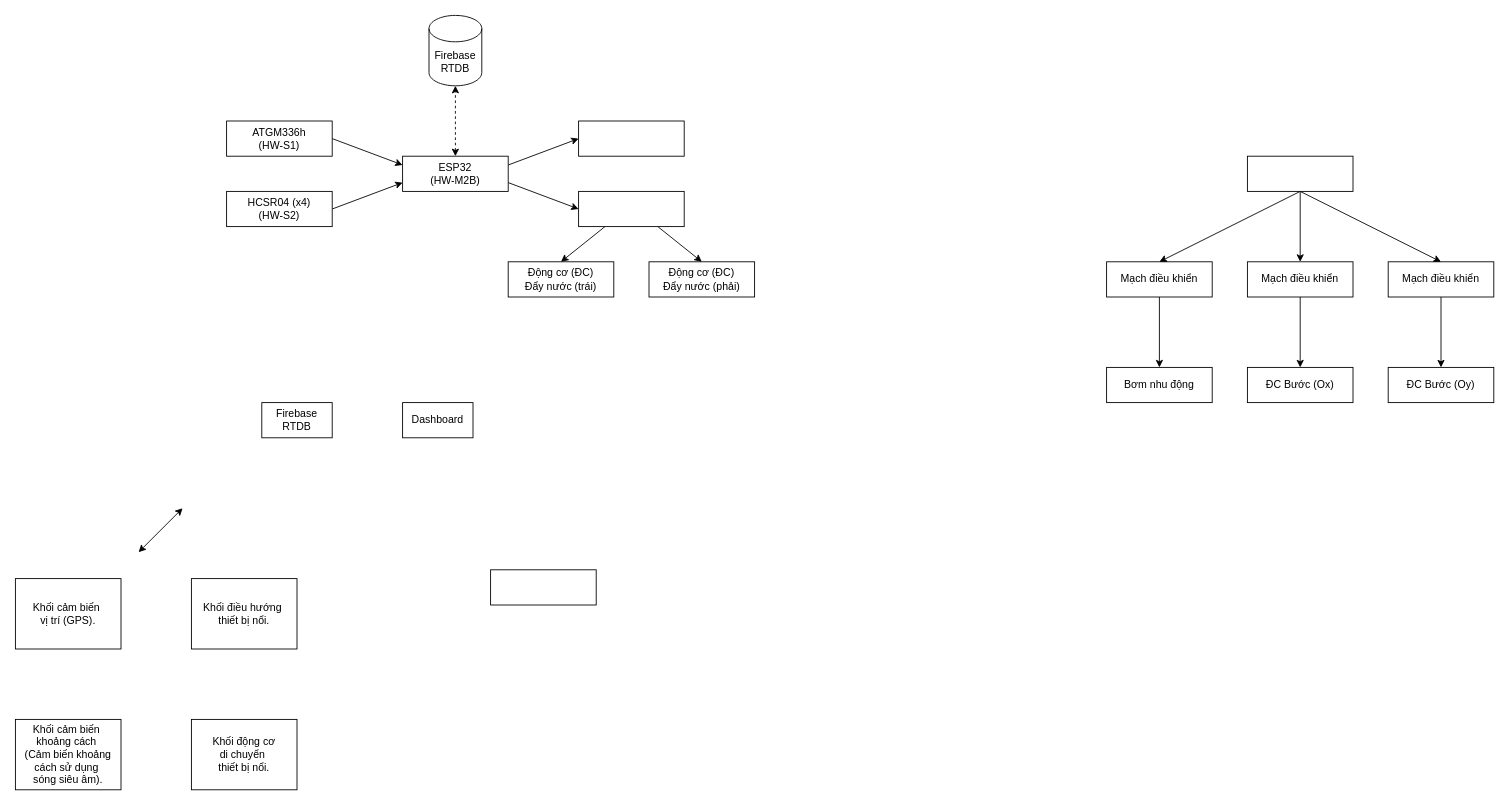
This 1509x805 diagram has some shape labels left out. The box of each missing label's shape, as (x1, y1, x2, y2) in pixels:
ESP32 (HW-M2A): (1247, 155, 1353, 191)
Khối thu thập dữ liệu ảnh.: (490, 569, 596, 605)
LED (HW-L1): (578, 120, 684, 156)
Mạch cầu H: (578, 191, 684, 227)
